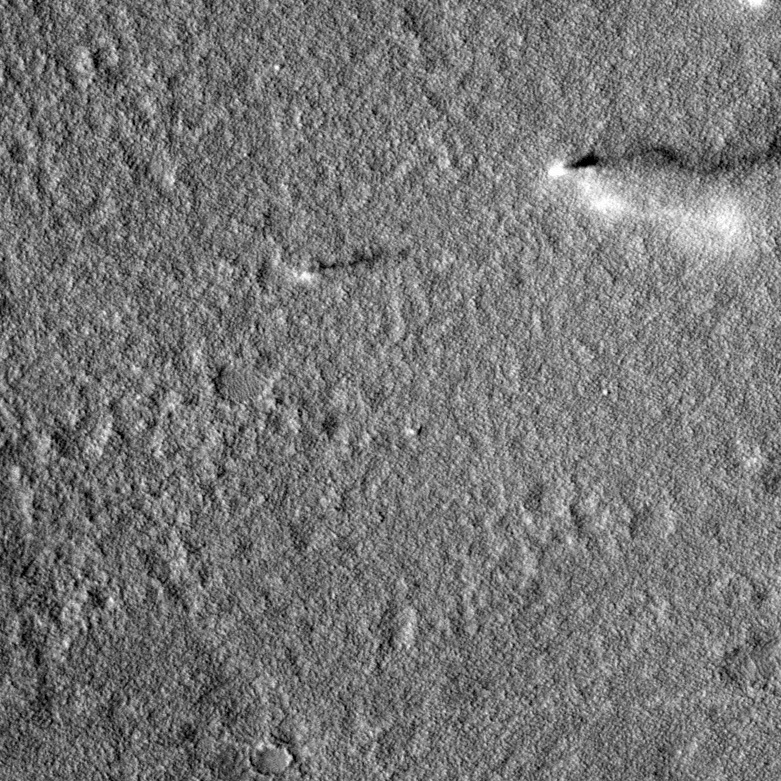dust_devil: (543, 106, 781, 241), (289, 244, 393, 286)
